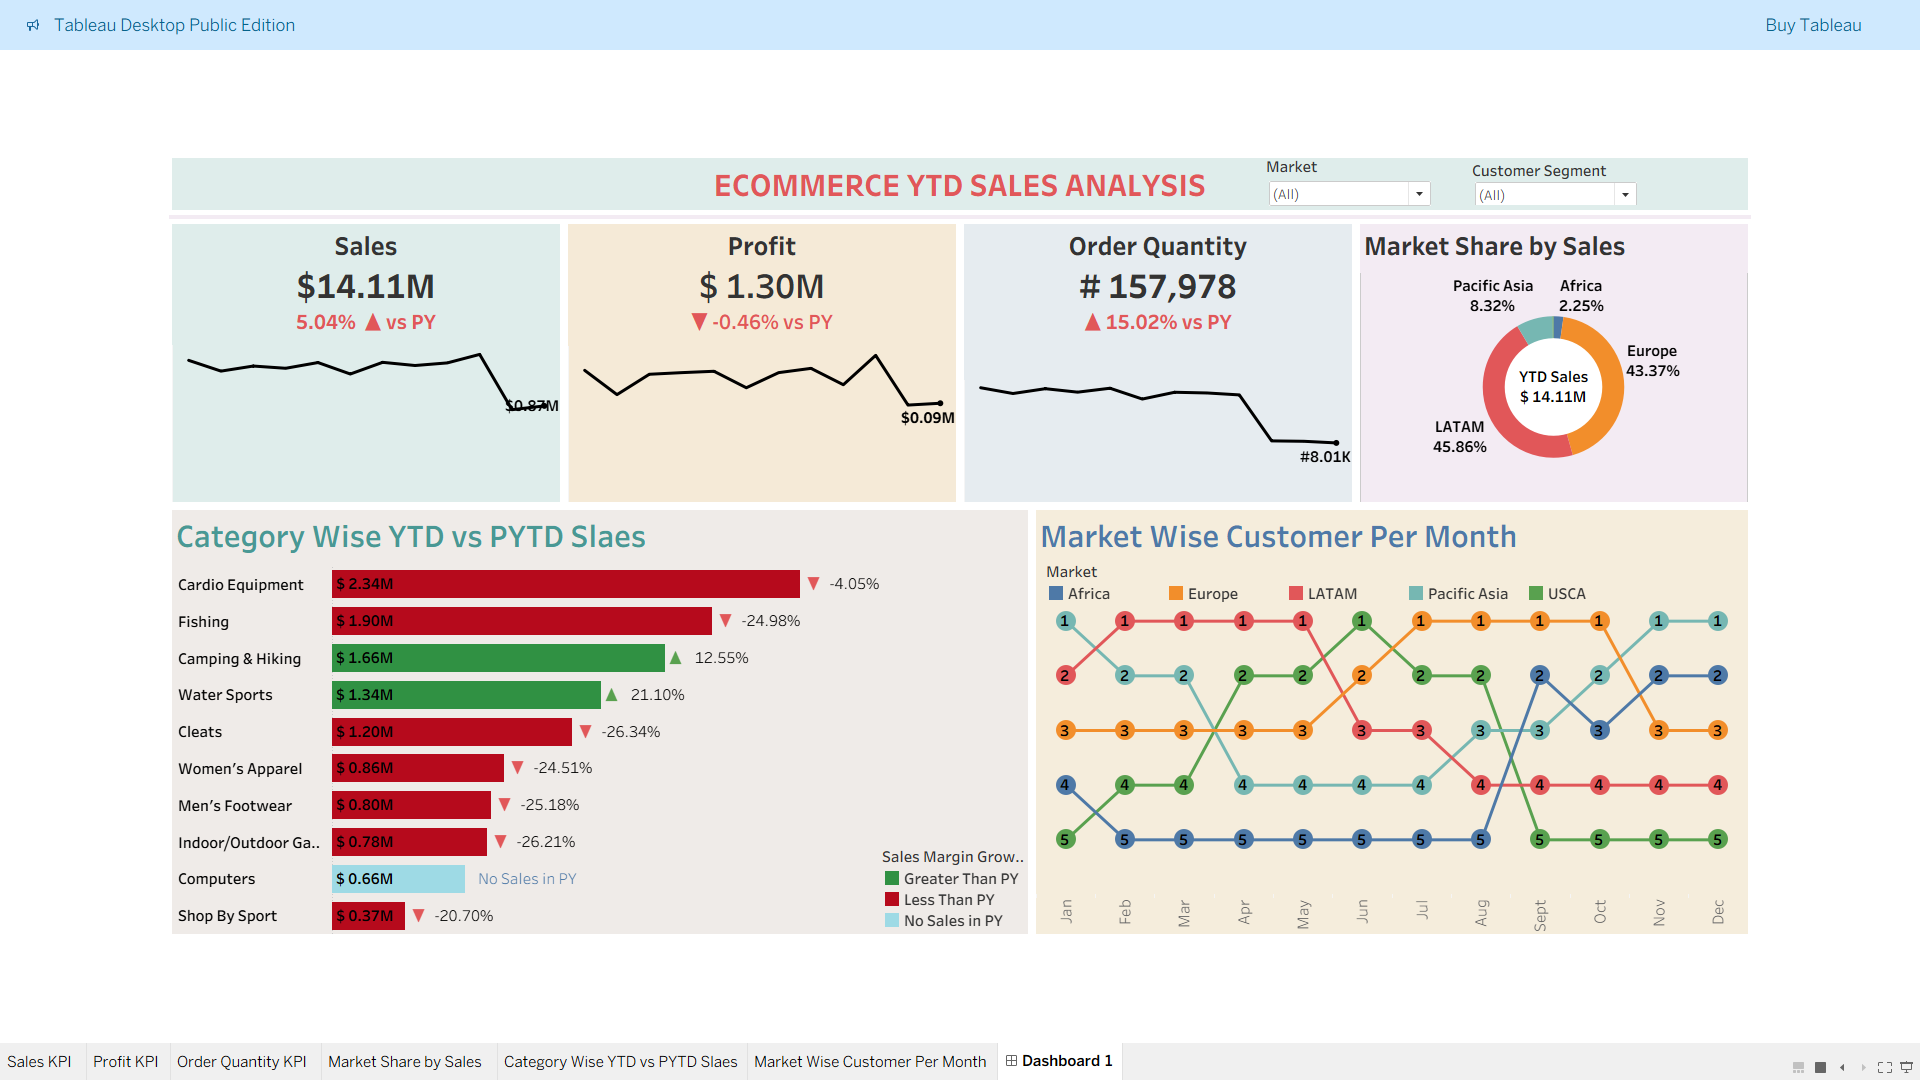

What the dashboard file says about the page in this screenshot:
{"tool":"tableau","page":{"name":"Dashboard 1","canvas":[1600,800],"ordinal":0},"visuals":[{"type":"title","box":[8,8,1584,60]},{"type":"filter","title":"Sales KPI ","param":"[federated.15wmfhe1qh2lbw16i971d181y9on].[none:Market:nk]","box":[1106,10,168,57]},{"type":"filter","title":"Sales KPI ","param":"[federated.15wmfhe1qh2lbw16i971d181y9on].[none:Customer Segment:nk]","box":[1312,14,168,45]},{"type":"blank","box":[8,68,1584,6]},{"type":"worksheet","title":"Sales KPI ","mark":"Line","rows":["Sales"],"cols":["Order Date"],"box":[8,74,396,286]},{"type":"worksheet","title":"Profit KPI","mark":"Line","rows":["Profit Per Order"],"cols":["Order Date"],"box":[404,74,396,286]},{"type":"worksheet","title":"Order Quantity KPI","mark":"Line","rows":["Order Quantity"],"cols":["Order Date"],"box":[800,74,396,286]},{"type":"worksheet","title":"Market Share by Sales","mark":"Pie","cols":["Calculation_3583077529362445","Calculation_3583077529395215"],"box":[1196,74,396,286]},{"type":"worksheet","title":"Category Wise YTD vs PYTD Slaes","mark":"Bar","rows":["Category Name"],"cols":["Calculation_3583077530013712","Calculation_3583077530013712"],"box":[8,360,864,432]},{"type":"worksheet","title":"Market Wise Customer Per Month ","mark":"Automatic","cols":["Order Date"],"box":[872,360,720,432]},{"type":"legend","title":"Market Wise Customer Per Month ","param":"[federated.15wmfhe1qh2lbw16i971d181y9on].[none:Market:nk]","box":[886,415,695,45]},{"type":"legend","title":"Category Wise YTD vs PYTD Slaes","param":"[federated.15wmfhe1qh2lbw16i971d181y9on].[usr:Calculation_3583077537939475:nk]","box":[722,700,142,85]}]}

Visuals, with their boxes on the page's 1600x800 design canvas (x1, y1, x2, y2). These are canvas units, not pixel positions in the 1920x1080 screenshot, which may show the page scaled, cropped or inside an application window:
title: <box>8,8,1592,68</box>
"Sales KPI " filter: <box>1106,10,1274,67</box>
"Sales KPI " filter: <box>1312,14,1480,59</box>
blank: <box>8,68,1592,74</box>
"Sales KPI " worksheet (Line marks): <box>8,74,404,360</box>
"Profit KPI" worksheet (Line marks): <box>404,74,800,360</box>
"Order Quantity KPI" worksheet (Line marks): <box>800,74,1196,360</box>
"Market Share by Sales" worksheet (Pie marks): <box>1196,74,1592,360</box>
"Category Wise YTD vs PYTD Slaes" worksheet (Bar marks): <box>8,360,872,792</box>
"Market Wise Customer Per Month " worksheet: <box>872,360,1592,792</box>
"Market Wise Customer Per Month " legend: <box>886,415,1581,460</box>
"Category Wise YTD vs PYTD Slaes" legend: <box>722,700,864,785</box>
